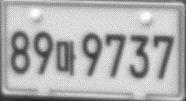3: (128, 34, 150, 79)
7: (104, 32, 126, 78), (152, 34, 174, 80)
8: (9, 29, 30, 74)
9: (81, 32, 103, 78), (32, 30, 54, 74)
마: (55, 40, 77, 77)
